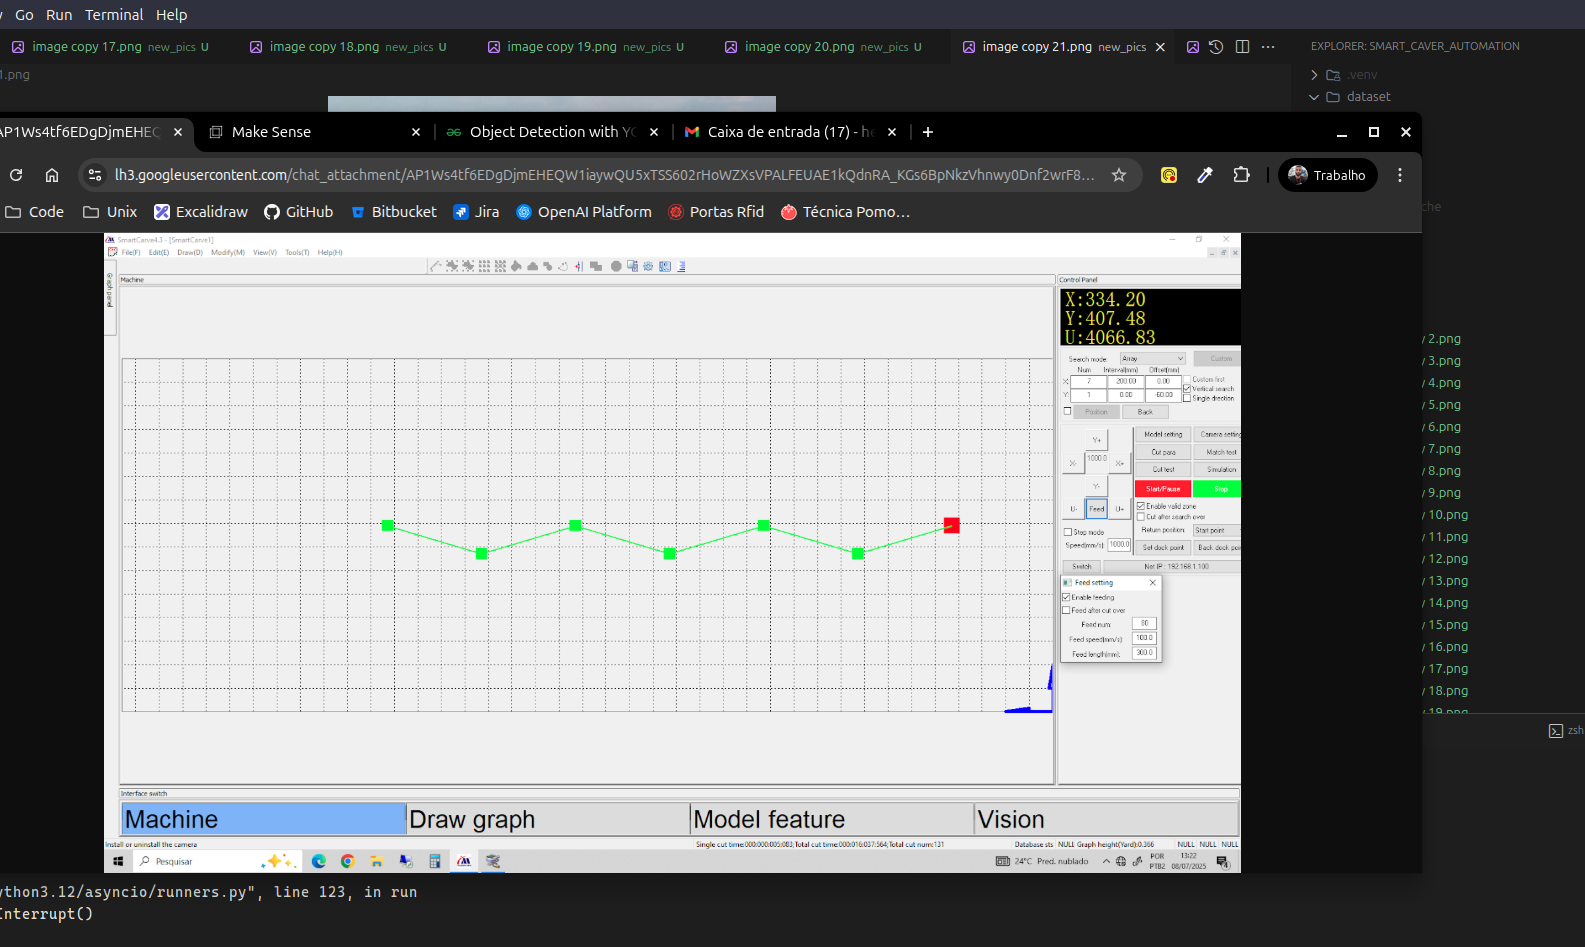start: (1135, 480, 1192, 497)
timer: (1145, 364, 1183, 401)
